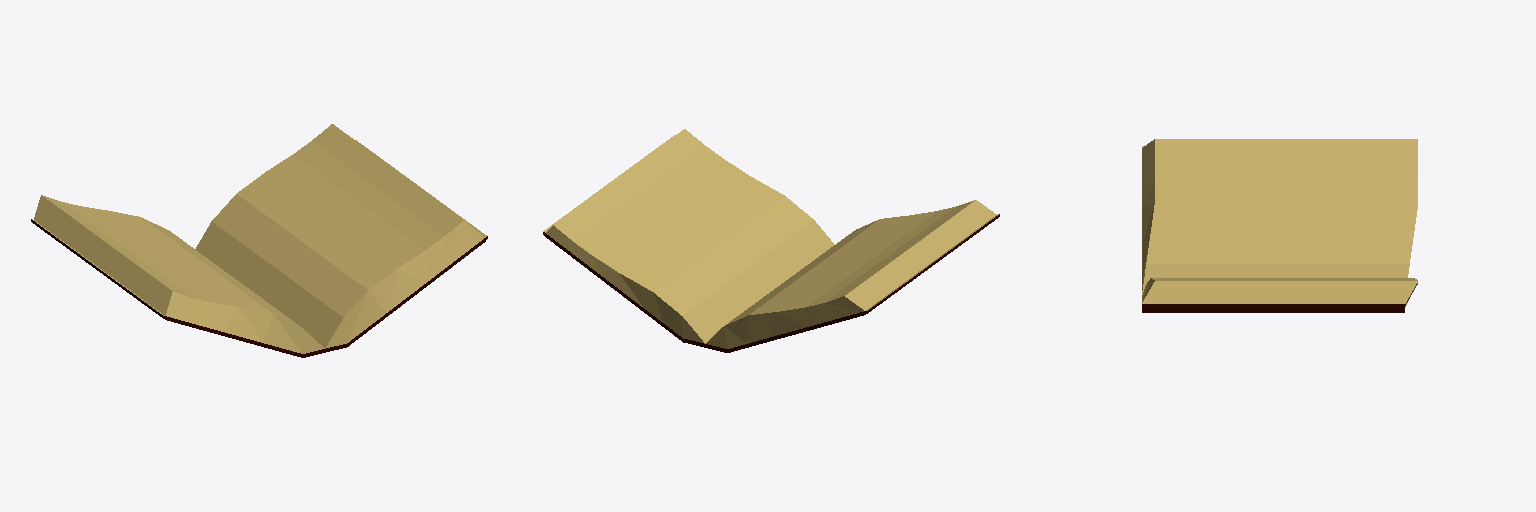
The model's file is Book.obj.
3 renders of one model, left to right at view 1: azimuth 30°, elevation 25°; view 2: azimuth 150°, elevation 25°; view 3: azimuth 270°, elevation 25°, orthographic.
Parts seen in each view (by area): view 1: Book; view 2: Book; view 3: Book.
Boxes of the visible parts, <box> form: Book: <box>31,124,487,357</box>; Book: <box>543,129,999,352</box>; Book: <box>1142,139,1417,312</box>.
Size of the model in its own units: 2.85 by 0.7713 by 2.1.